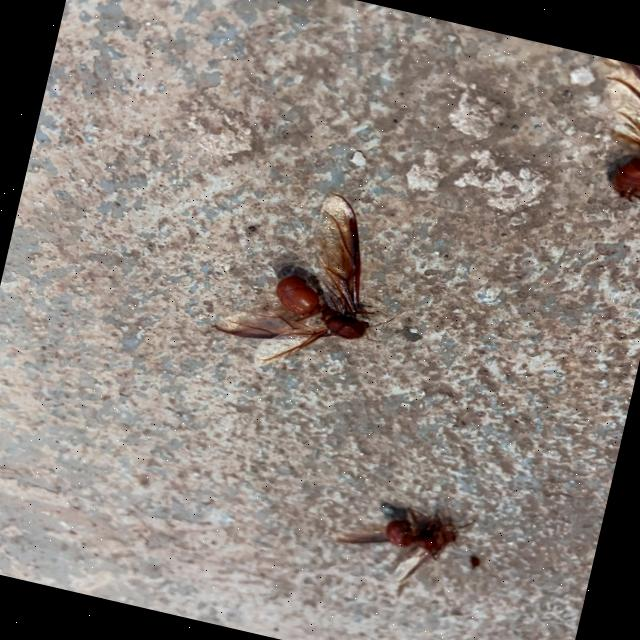Alive-Male-Alate: (207, 175, 419, 392)
Dead-Male-Alate: (322, 488, 476, 598)
